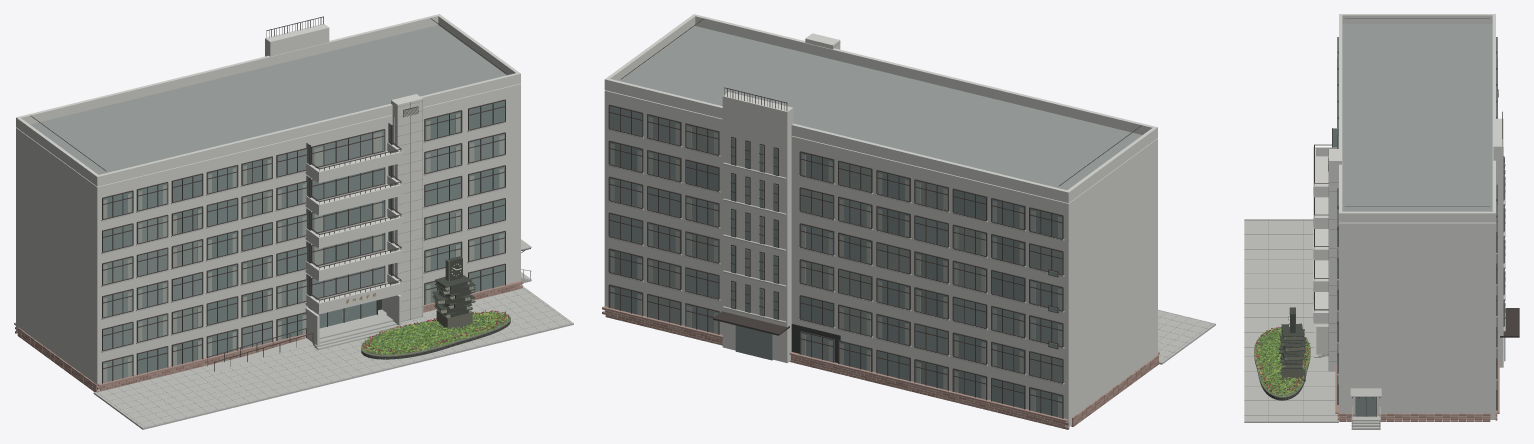
Rendered from 17-candidate.glb.
3 views of the same model, side by side, from view 1: azimuth 30°, elevation 25°; view 2: azimuth 150°, elevation 25°; view 3: azimuth 270°, elevation 25° (orthographic). The views are drawn at different scales.
Parts seen in each view (by area): view 1: T4 six storey structure, T4 flat roof, T4 forecourt paving, T4 window glass.001, T4 roof parapet, T4 window glass.002, T4 window transoms, T4 window glass.003, T4 window mullions, T4 curtain panels, T4 front shaft, T4 window glass (+25 smaller); view 2: T4 six storey structure, T4 flat roof, T4 rear stair tower, T4 window glass.002, T4 roof parapet, T4 window glass.001, T4 window transoms, T4 window glass, T4 window mullions, T4 curtain panels, T4 window glass.003, T4 ground left structure (+17 smaller); view 3: T4 flat roof, T4 six storey structure, T4 forecourt paving, T4 ground right structure, T4 end parapet, T4 front shaft, T4 rear stair tower, T4 balcony slab, T4 roof parapet, T4 paving joints, T4 flowerbed foliage.003, T4 flowerbed foliage.002 (+21 smaller).
Part boxes in pixels (<box>): T4 six storey structure: <box>16,83,520,358</box>; T4 flat roof: <box>30,25,506,174</box>; T4 forecourt paving: <box>93,287,573,429</box>; T4 window glass.001: <box>103,100,504,374</box>; T4 roof parapet: <box>19,15,517,185</box>; T4 window glass.002: <box>103,130,504,350</box>; T4 window transoms: <box>102,99,505,368</box>; T4 window glass.003: <box>103,166,504,304</box>; T4 window mullions: <box>102,100,505,383</box>; T4 curtain panels: <box>103,113,503,382</box>; T4 front shaft: <box>391,94,423,322</box>; T4 window glass: <box>103,190,461,382</box>; T4 six storey structure: <box>604,90,1157,391</box>; T4 flat roof: <box>620,26,1142,190</box>; T4 rear stair tower: <box>722,92,793,363</box>; T4 window glass.002: <box>609,106,1062,362</box>; T4 roof parapet: <box>608,15,1153,202</box>; T4 window glass.001: <box>609,142,1024,408</box>; T4 window transoms: <box>609,104,1063,402</box>; T4 window glass: <box>648,124,1062,382</box>; T4 window mullions: <box>608,105,1063,418</box>; T4 curtain panels: <box>610,117,1061,417</box>; T4 window glass.003: <box>800,152,1062,418</box>; T4 ground left structure: <box>840,326,1157,427</box>; T4 flat roof: <box>1342,24,1492,211</box>; T4 six storey structure: <box>1339,222,1495,387</box>; T4 forecourt paving: <box>1244,219,1338,422</box>; T4 ground right structure: <box>1339,388,1495,419</box>; T4 end parapet: <box>1339,14,1495,222</box>; T4 front shaft: <box>1329,149,1341,371</box>; T4 rear stair tower: <box>1493,118,1503,367</box>; T4 balcony slab: <box>1313,156,1328,323</box>; T4 roof parapet: <box>1339,15,1495,211</box>; T4 paving joints: <box>1244,219,1337,421</box>; T4 flowerbed foliage.003: <box>1255,328,1310,395</box>; T4 flowerbed foliage.002: <box>1254,328,1310,394</box>.
Size of the model in its own units: 42.81 by 22.01 by 23.85.
27 materials, 3 textured.
